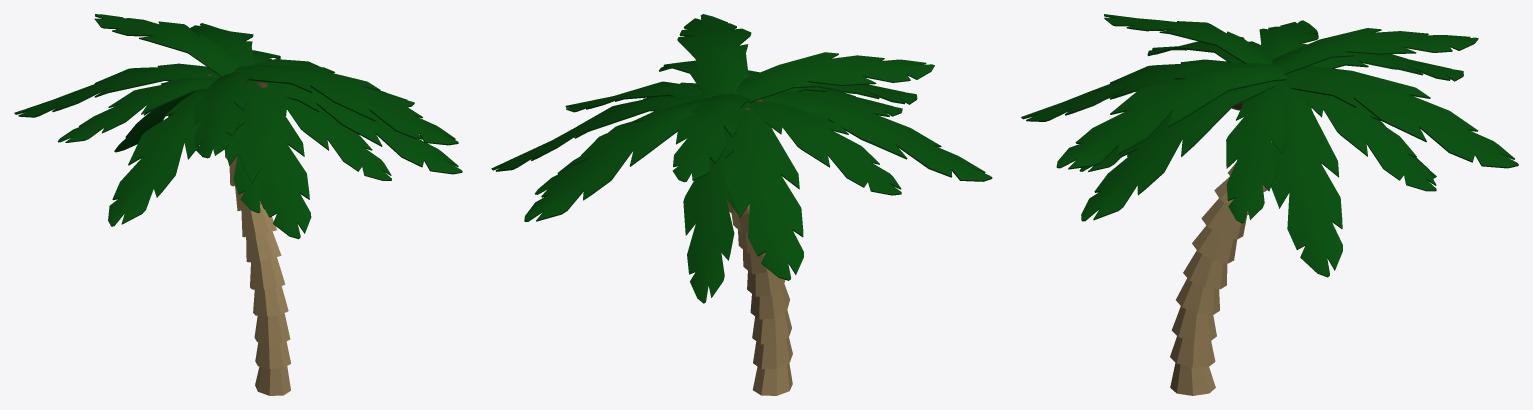
Rendered from Palmera.fbx.
3 views of the same model, side by side, from view 1: azimuth 30°, elevation 25°; view 2: azimuth 150°, elevation 25°; view 3: azimuth 270°, elevation 25° (orthographic). The views are drawn at different scales.
Parts seen in each view (by area): view 1: Plane.001, Plane.003, Plane.013, Plane.002, Plane.008, Plane.015, Plane.014, Plane.012, Plane.006, Plane.007, Plane.005, Plane.011 (+7 smaller); view 2: Plane.006, Plane.005, Plane.003, Plane.011, Plane.014, Plane.012, Plane.013, Plane.015, Plane.004, Plane.009, Plane.001, Cylinder.004 (+6 smaller); view 3: Plane.004, Plane.013, Plane.005, Plane.002, Plane.009, Plane.010, Plane.015, Plane.001, Plane.014, Plane.006, Plane.012, Cylinder.006 (+7 smaller).
Boxes of the visible parts, bbox=[...] form: Plane.001: bbox=[234, 80, 311, 239]; Plane.003: bbox=[108, 90, 207, 226]; Plane.013: bbox=[232, 64, 458, 145]; Plane.002: bbox=[258, 81, 462, 174]; Plane.008: bbox=[270, 90, 391, 180]; Plane.015: bbox=[94, 14, 243, 76]; Plane.014: bbox=[194, 72, 251, 158]; Plane.012: bbox=[57, 77, 218, 142]; Plane.006: bbox=[14, 63, 220, 117]; Plane.007: bbox=[224, 124, 264, 213]; Plane.005: bbox=[190, 23, 254, 66]; Plane.011: bbox=[114, 91, 194, 152]; Plane.006: bbox=[724, 103, 803, 280]; Plane.005: bbox=[524, 98, 708, 221]; Plane.003: bbox=[761, 91, 992, 181]; Plane.011: bbox=[683, 151, 737, 303]; Plane.014: bbox=[736, 52, 934, 102]; Plane.012: bbox=[749, 101, 901, 195]; Plane.013: bbox=[677, 14, 751, 98]; Plane.015: bbox=[672, 93, 749, 182]; Plane.004: bbox=[491, 94, 706, 171]; Plane.009: bbox=[565, 81, 703, 112]; Plane.001: bbox=[785, 82, 917, 104]; Cylinder.004: bbox=[752, 363, 792, 395]; Plane.004: bbox=[1271, 80, 1342, 277]; Plane.013: bbox=[1056, 63, 1287, 169]; Plane.005: bbox=[1283, 65, 1518, 168]; Plane.002: bbox=[1081, 81, 1276, 221]; Plane.009: bbox=[1226, 87, 1285, 223]; Plane.010: bbox=[1299, 90, 1436, 191]; Plane.015: bbox=[1272, 28, 1478, 74]; Plane.001: bbox=[1021, 59, 1235, 121]; Plane.014: bbox=[1104, 14, 1272, 64]; Plane.006: bbox=[1310, 52, 1463, 81]; Plane.012: bbox=[1259, 20, 1318, 59]; Cylinder.006: bbox=[1171, 306, 1216, 341].
Bounding box in the file's own units: 1035 × 807 × 1083.
